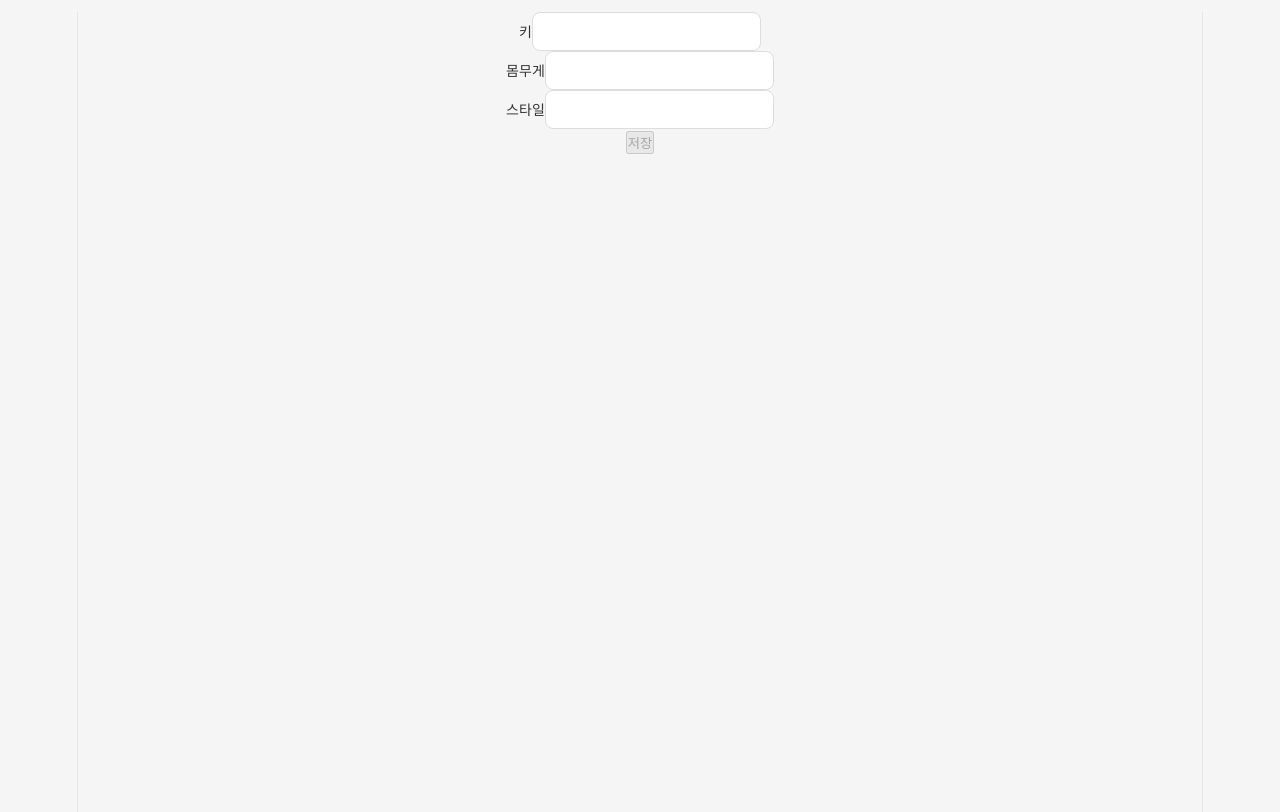
UserProfileForm › TC-02: 키, 몸무게, 스타일을 입력하면 저장 버튼이 활성화된다
Type "175" into the number field labelled "키" at (646, 32), box [532,12,761,51]
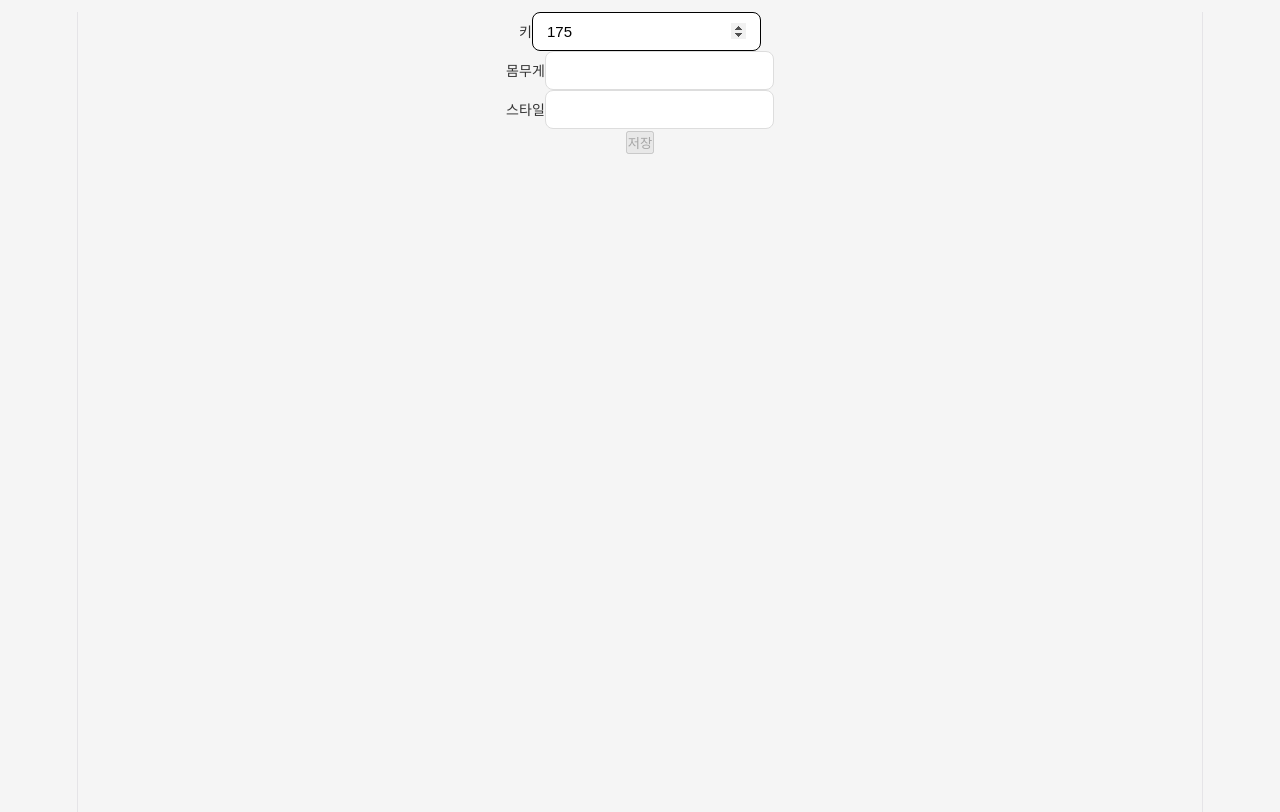
Type "70" into the number field labelled "몸무게" at (660, 70), box [545,51,774,90]
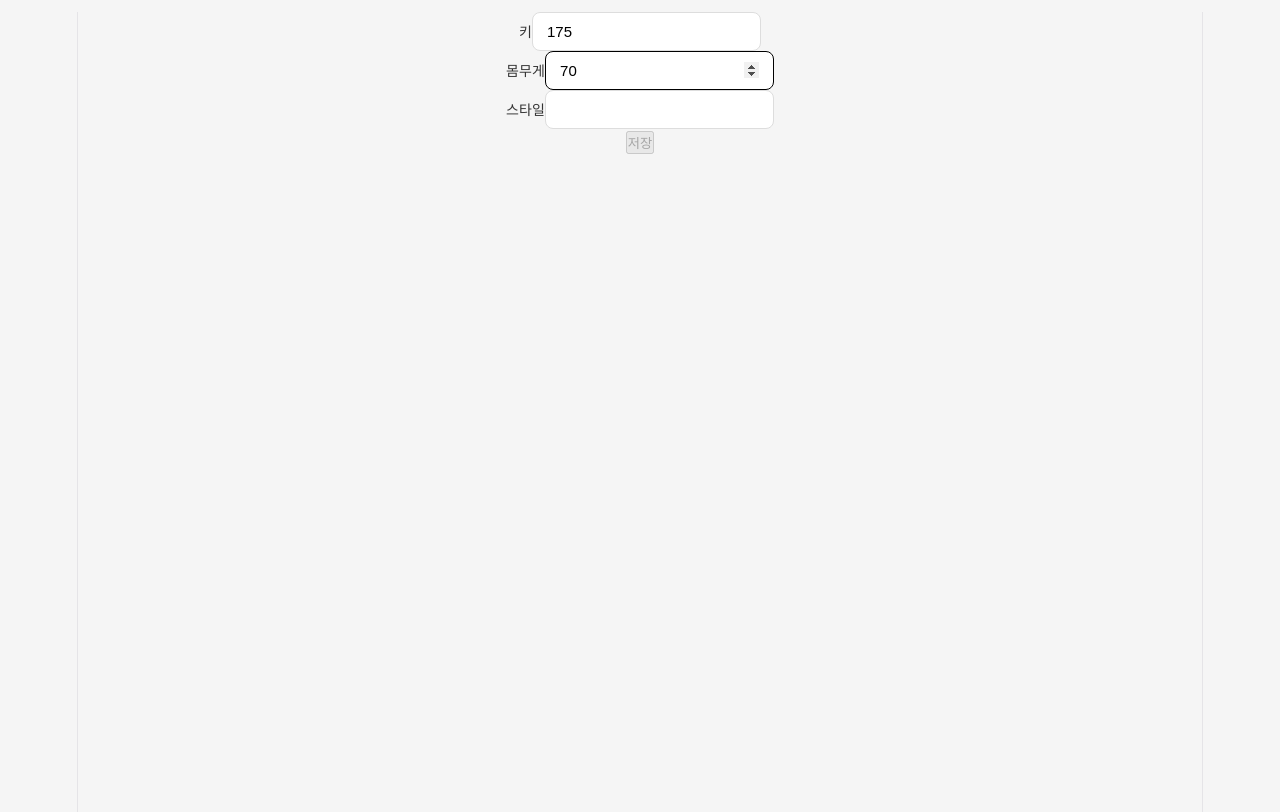
Type "캐주얼" into the field labelled "스타일" at (660, 110), box [545,90,774,129]
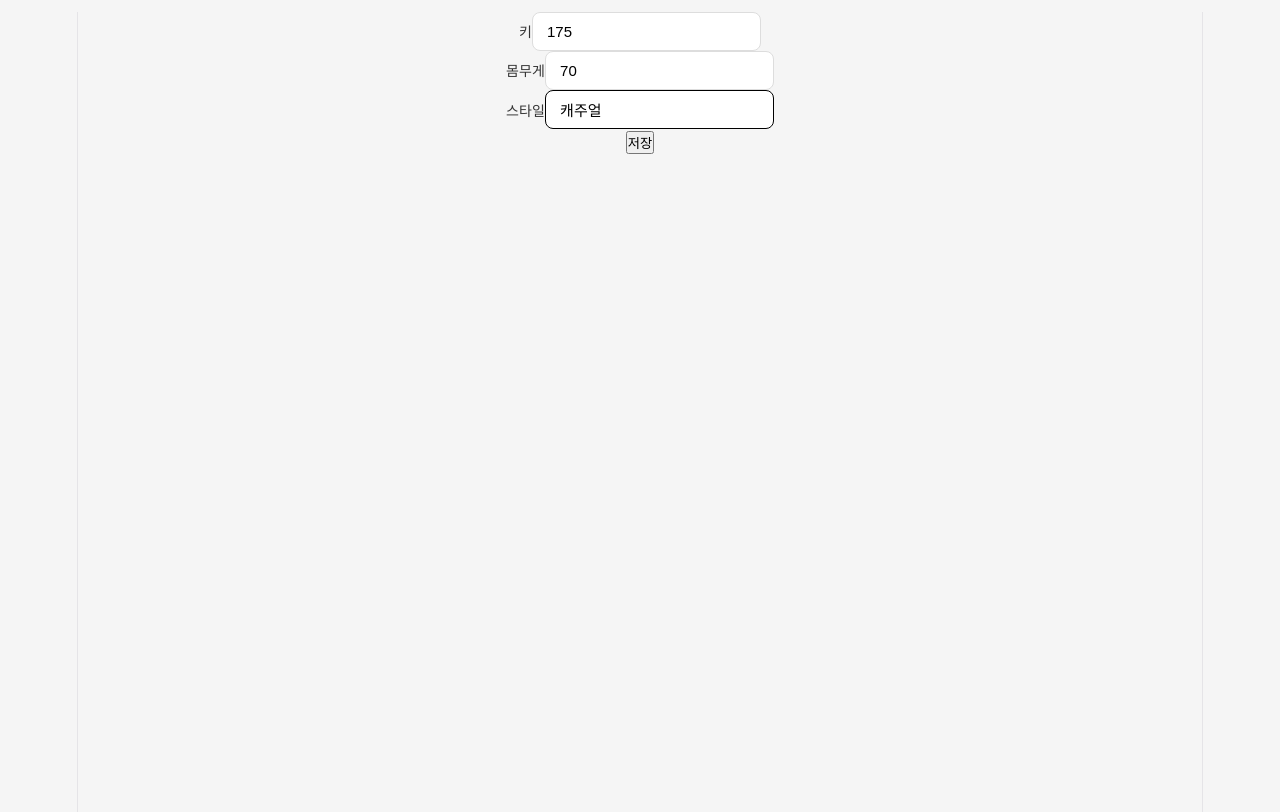
Now the button "저장" is enabled, box [626,131,654,154]
